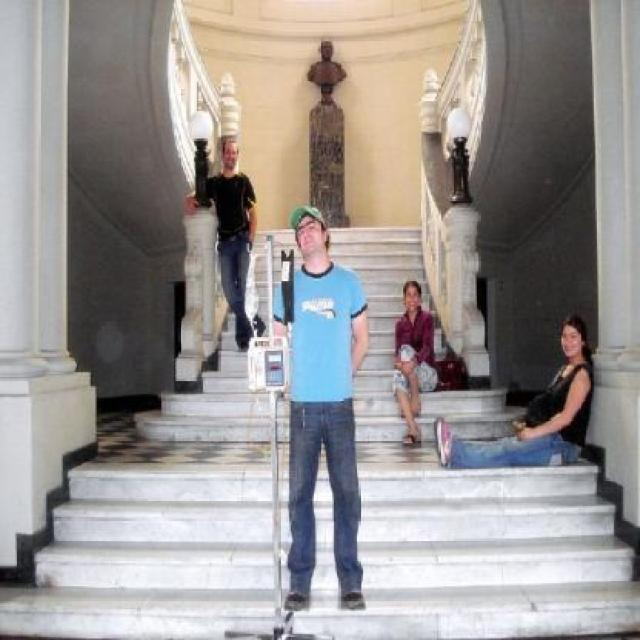stair: (0, 227, 638, 638)
